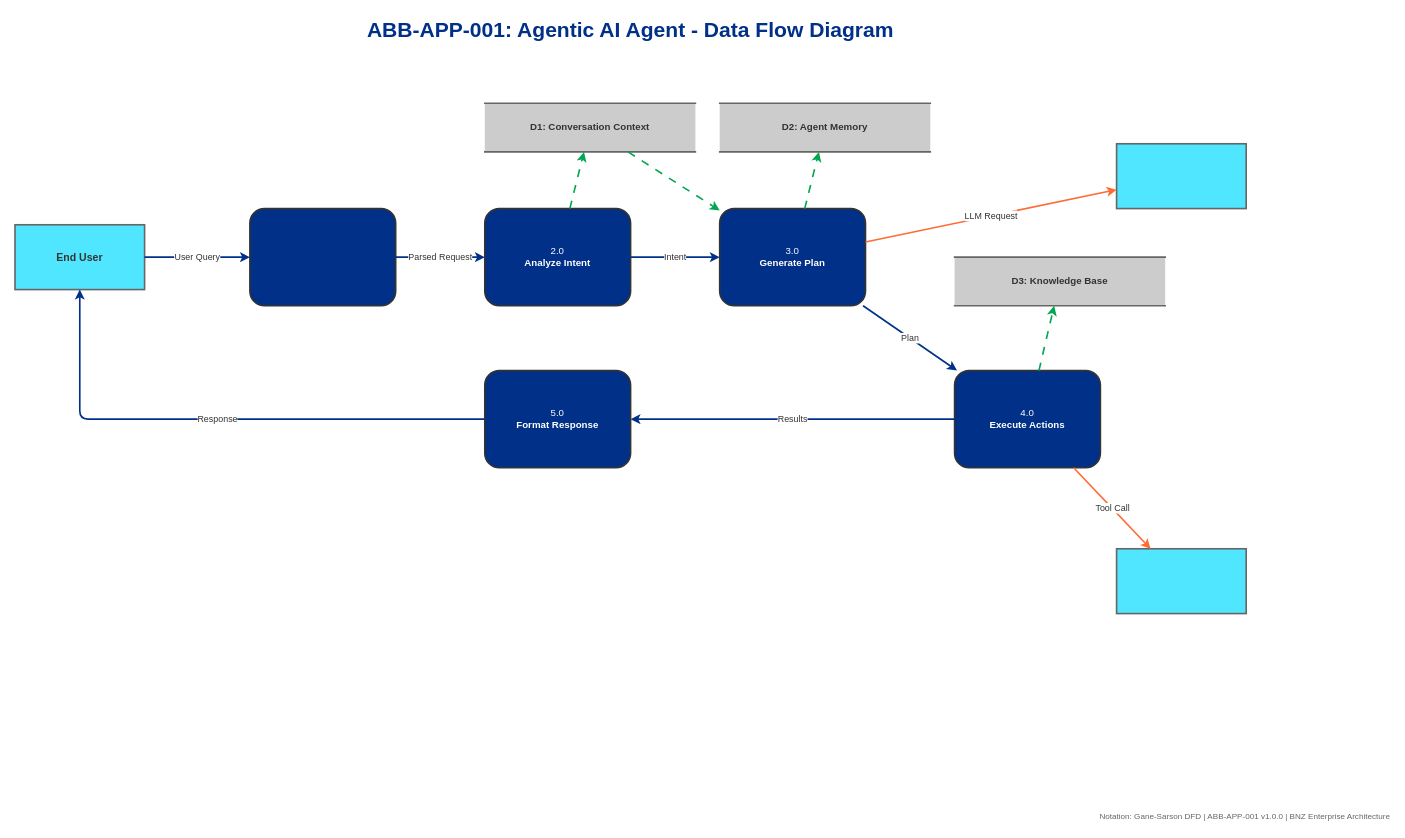
The diagram is 1405 pixels wide and 838 high, and some of its shapes have lost their labels. Here are the shapes that lost their labels. From the top down, the centre of each, then its label:
the point at 1181,176: Foundation Model
the point at 322,256: 1.0 Parse Input
the point at 1181,581: External Tools
